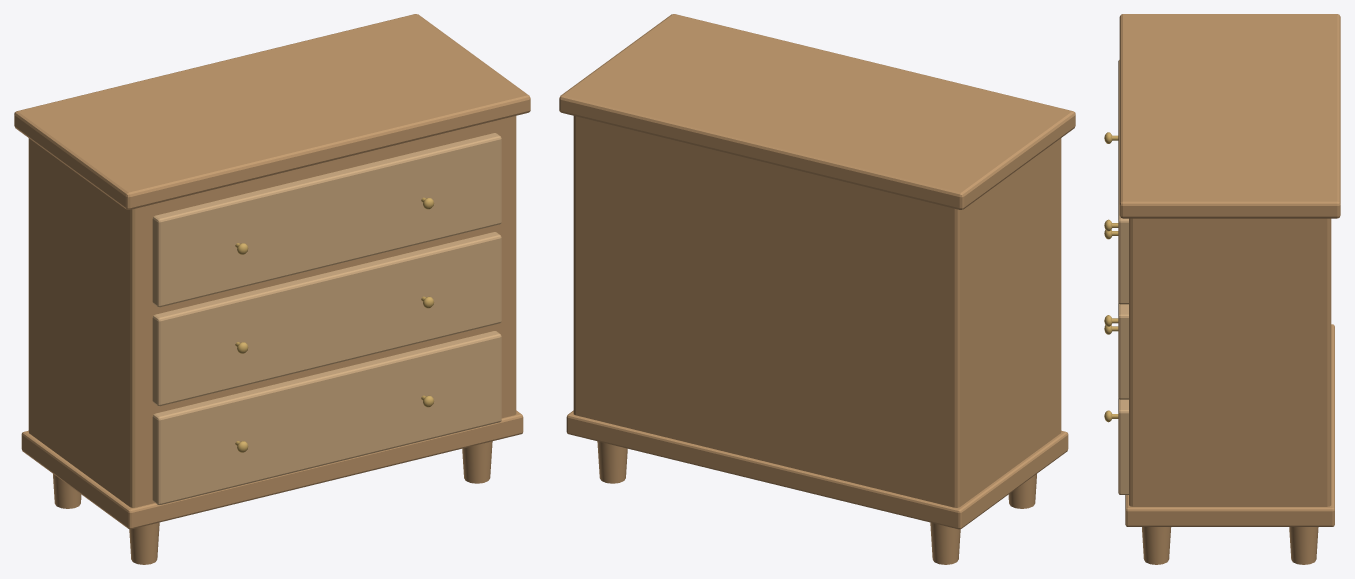
The model's file is dresser_oak_three_drawer.glb.
The picture shows the model from 3 angles, left to right: view 1: azimuth 30°, elevation 25°; view 2: azimuth 150°, elevation 25°; view 3: azimuth 270°, elevation 25°; orthographic projection. The views are drawn at different scales.
Parts seen in each view (by area): view 1: Oak dresser overhanging top, Oak dresser closed cabinet, Oak drawer 2 closed drawer face, Oak drawer 3 closed drawer face, Oak drawer 1 closed drawer face, Oak dresser base molding, Oak dresser grounded turned foot.002, Oak dresser grounded turned foot, Oak dresser grounded turned foot.001; view 2: Oak dresser closed cabinet, Oak dresser overhanging top, Oak dresser base molding, Oak dresser grounded turned foot.003, Oak dresser grounded turned foot.001, Oak dresser grounded turned foot; view 3: Oak dresser closed cabinet, Oak dresser overhanging top, Oak dresser base molding, Oak drawer 3 closed drawer face, Oak drawer 1 closed drawer face, Oak drawer 2 closed drawer face, Oak dresser grounded turned foot.003, Oak dresser grounded turned foot.002.
Boxes of the visible parts, <box> form: Oak dresser overhanging top: <box>14,14,530,209</box>; Oak dresser closed cabinet: <box>28,116,516,507</box>; Oak drawer 2 closed drawer face: <box>152,232,501,406</box>; Oak drawer 3 closed drawer face: <box>152,133,501,307</box>; Oak drawer 1 closed drawer face: <box>152,331,501,505</box>; Oak dresser base molding: <box>21,410,523,529</box>; Oak dresser grounded turned foot.002: <box>462,441,492,483</box>; Oak dresser grounded turned foot: <box>129,522,159,564</box>; Oak dresser grounded turned foot.001: <box>53,474,81,508</box>; Oak dresser closed cabinet: <box>573,116,1061,507</box>; Oak dresser overhanging top: <box>559,14,1075,209</box>; Oak dresser base molding: <box>566,410,1068,529</box>; Oak dresser grounded turned foot.003: <box>597,441,627,483</box>; Oak dresser grounded turned foot.001: <box>930,522,960,564</box>; Oak dresser grounded turned foot: <box>1008,474,1036,508</box>; Oak dresser closed cabinet: <box>1129,218,1331,506</box>; Oak dresser overhanging top: <box>1119,14,1340,218</box>; Oak dresser base molding: <box>1125,324,1334,526</box>; Oak drawer 3 closed drawer face: <box>1118,60,1128,304</box>; Oak drawer 1 closed drawer face: <box>1118,398,1128,494</box>; Oak drawer 2 closed drawer face: <box>1118,303,1128,399</box>; Oak dresser grounded turned foot.003: <box>1289,527,1318,564</box>; Oak dresser grounded turned foot.002: <box>1142,527,1171,564</box>.
Size of the model in its own units: 1.07 by 0.979 by 0.5615.
